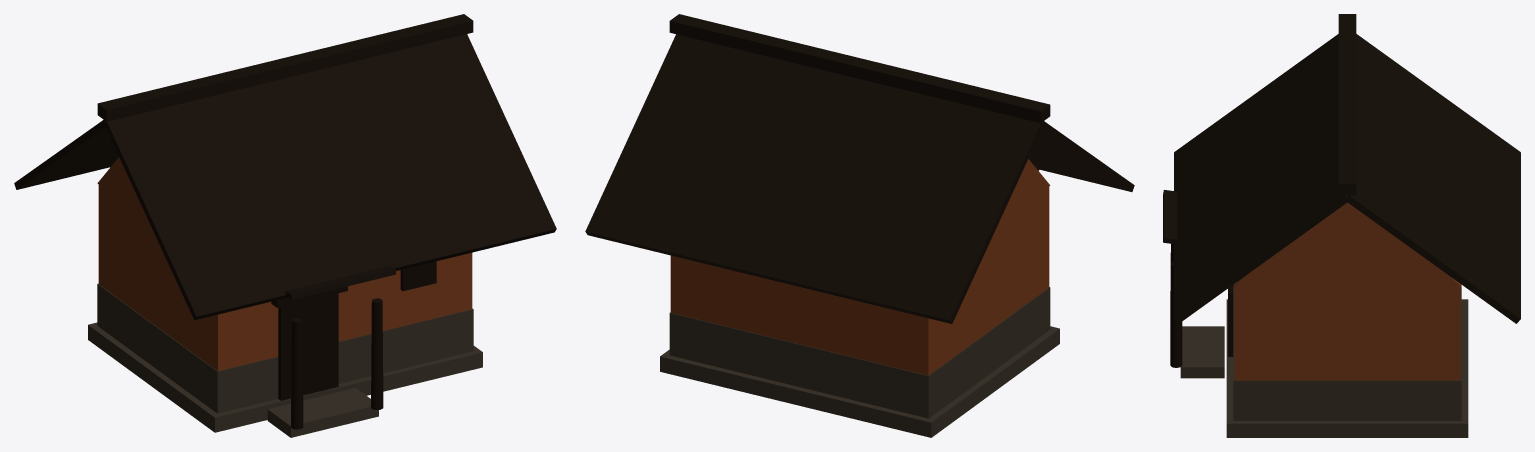
The model's file is villager-hut.obj.
3 views of the same model, side by side, from view 1: azimuth 30°, elevation 25°; view 2: azimuth 150°, elevation 25°; view 3: azimuth 270°, elevation 25° (orthographic). The views are drawn at different scales.
Parts seen in each view (by area): view 1: roof_panel_front, wall_earthen_plaster, wall_stone_course, roof_ridge_cap, stone_plinth, door_wood, roof_panel_back, entry_step, entry_post_right, entry_post_left, entry_overhang, gable_end_left (+1 smaller); view 2: roof_panel_back, wall_earthen_plaster, wall_stone_course, roof_ridge_cap, stone_plinth, roof_panel_front, gable_end_left; view 3: roof_panel_back, roof_panel_front, wall_earthen_plaster, gable_end_right, wall_stone_course, stone_plinth, roof_ridge_cap, entry_step, entry_post_right, entry_overhang.
Part boxes in pixels (bbox=[...]): roof_panel_front: bbox=[104, 34, 556, 320]; wall_earthen_plaster: bbox=[98, 184, 472, 371]; wall_stone_course: bbox=[97, 283, 473, 413]; roof_ridge_cap: bbox=[97, 14, 473, 121]; stone_plinth: bbox=[88, 322, 482, 432]; door_wood: bbox=[278, 293, 338, 400]; roof_panel_back: bbox=[14, 120, 118, 189]; entry_step: bbox=[267, 388, 378, 437]; entry_post_right: bbox=[371, 298, 383, 409]; entry_post_left: bbox=[291, 318, 303, 429]; entry_overhang: bbox=[285, 266, 395, 299]; gable_end_left: bbox=[97, 157, 148, 220]; roof_panel_back: bbox=[585, 34, 1043, 323]; wall_earthen_plaster: bbox=[670, 186, 1049, 375]; wall_stone_course: bbox=[669, 287, 1050, 418]; roof_ridge_cap: bbox=[669, 14, 1050, 123]; stone_plinth: bbox=[660, 326, 1059, 437]; roof_panel_front: bbox=[1028, 121, 1134, 191]; gable_end_left: bbox=[999, 159, 1050, 222]; roof_panel_back: bbox=[1346, 34, 1520, 323]; roof_panel_front: bbox=[1174, 34, 1348, 323]; wall_earthen_plaster: bbox=[1234, 282, 1460, 380]; gable_end_right: bbox=[1233, 202, 1461, 287]; wall_stone_course: bbox=[1233, 284, 1461, 420]; stone_plinth: bbox=[1226, 299, 1468, 437]; roof_ridge_cap: bbox=[1338, 14, 1356, 194]; entry_step: bbox=[1180, 326, 1224, 378]; entry_post_right: bbox=[1170, 262, 1182, 367]; entry_overhang: bbox=[1163, 190, 1177, 243].
Bounding box in the file's own units: 4.58 × 3.48 × 4.08.
